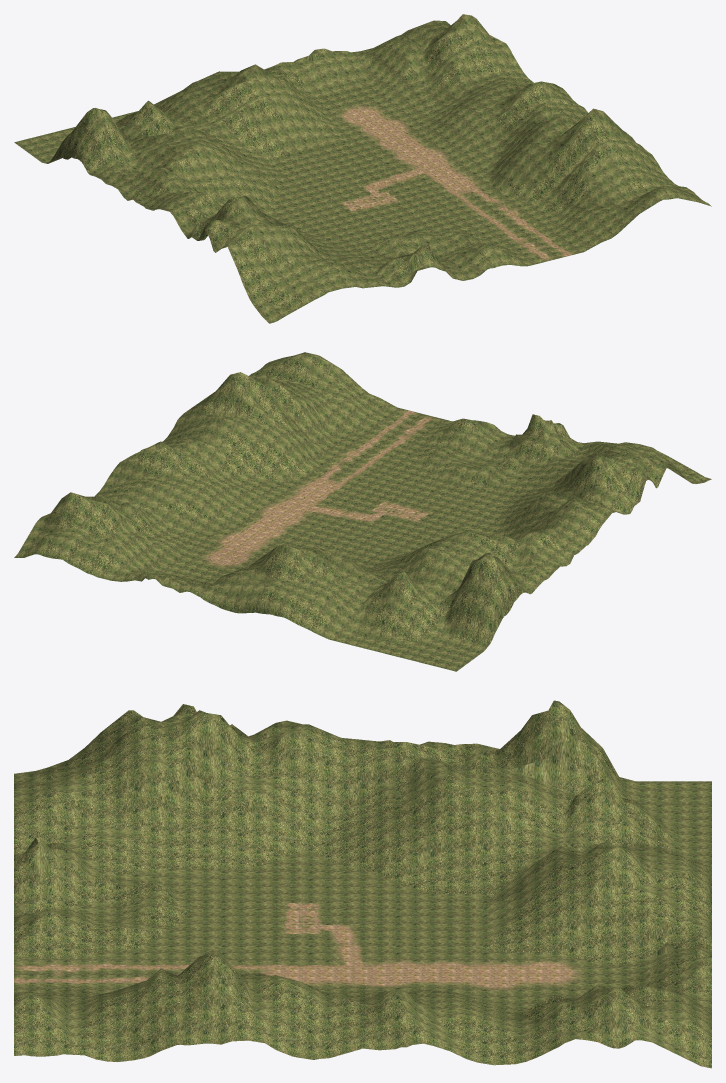
File: heat.fbx
3 renders of one model, top to bottom at view 1: azimuth 30°, elevation 25°; view 2: azimuth 150°, elevation 25°; view 3: azimuth 270°, elevation 25°, orthographic. The views are drawn at different scales.
Parts seen in each view (by area): view 1: Mesh; view 2: Mesh; view 3: Mesh.
Boxes of the visible parts, x1=… form: Mesh: x1=14, y1=14, x2=711, y2=323; Mesh: x1=14, y1=352, x2=711, y2=671; Mesh: x1=14, y1=700, x2=711, y2=1068.
Size of the model in its own units: 300 by 46.02 by 300.
1 material, 1 textured.
